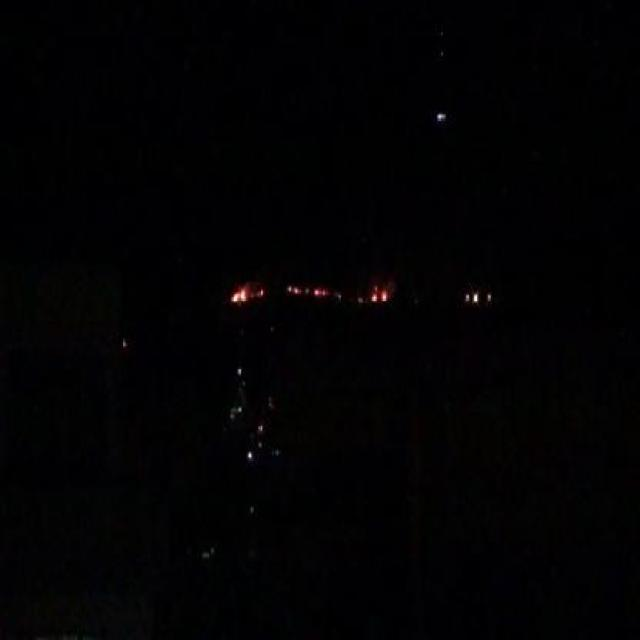Fire: (233, 282, 264, 304), (288, 284, 326, 296), (370, 288, 388, 301)
